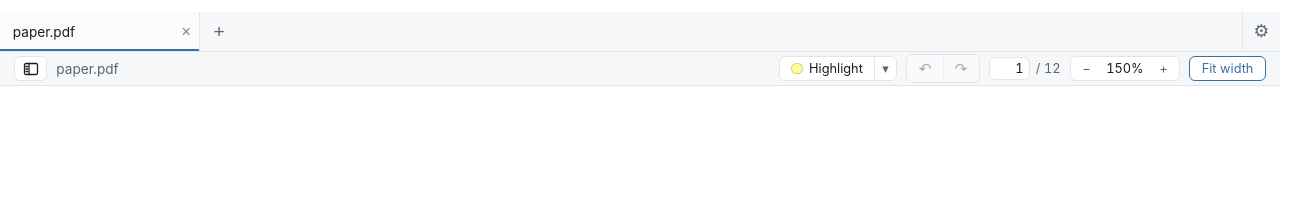
Test: Contents sidebar, PDF › says when the PDF has no table of contents
Click the button named "Contents" at [31, 68], box [14,56,47,81]
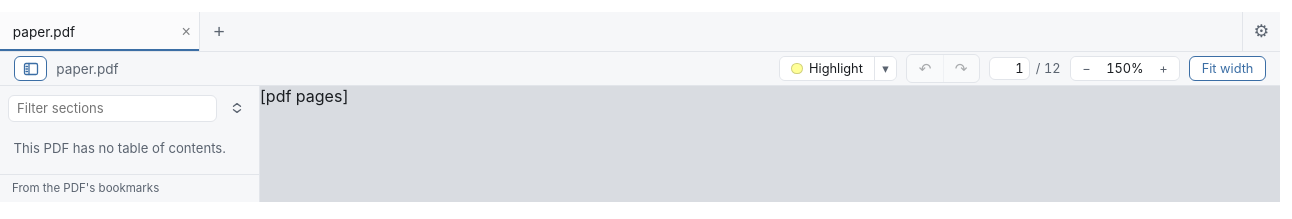
Expected: the navigation bar named "Contents" shows "This PDF has no table of contents.", [14,140,226,156]
